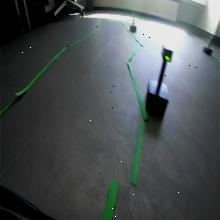green: (162, 46, 172, 62)
